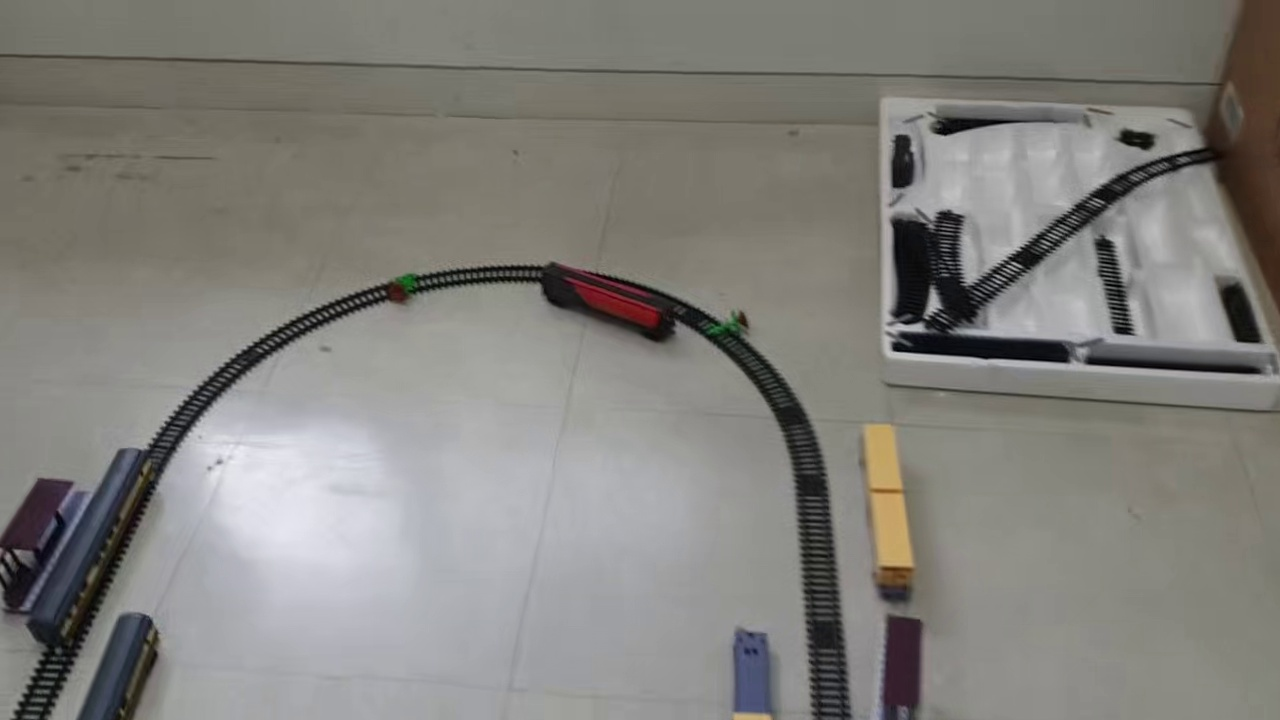tree: (704, 308, 750, 343), (381, 272, 422, 306)
